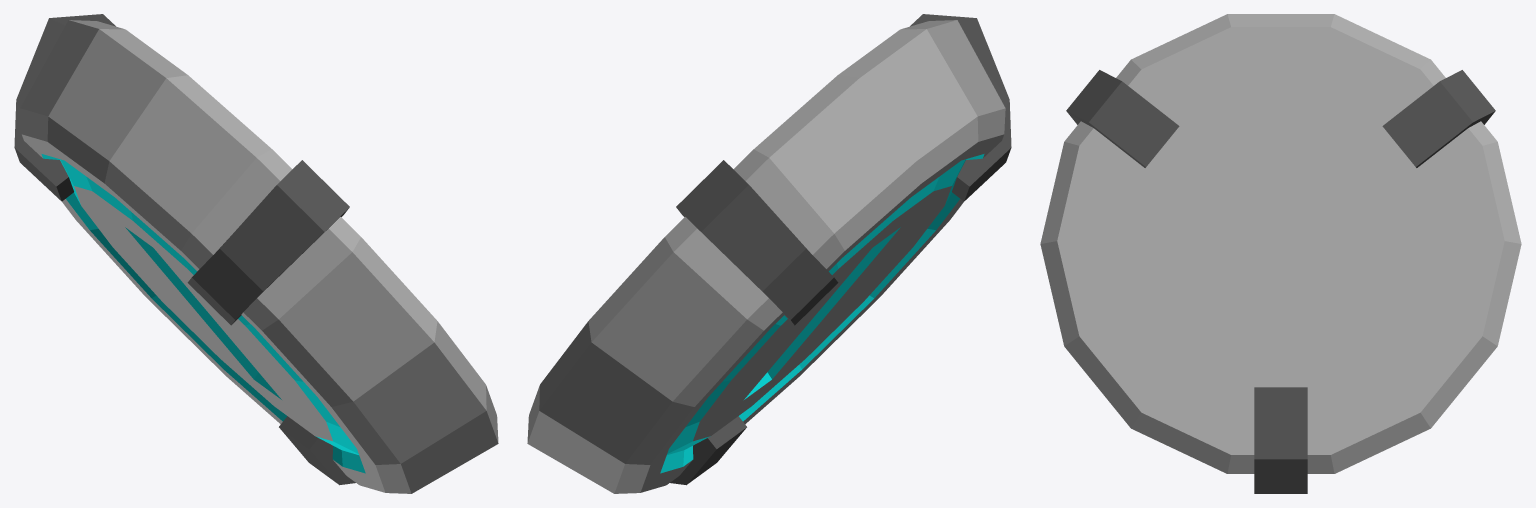
File: Proto_Vehicle_Car_Flying_Hover_Plate_Back_R_01.fbx
3 views of the same model, side by side, from view 1: azimuth 30°, elevation 25°; view 2: azimuth 150°, elevation 25°; view 3: azimuth 270°, elevation 25° (orthographic). The views are drawn at different scales.
Parts seen in each view (by area): view 1: Proto_Vehicle_Car_Flying_Hover_Plate_Back_R_01; view 2: Proto_Vehicle_Car_Flying_Hover_Plate_Back_R_01; view 3: Proto_Vehicle_Car_Flying_Hover_Plate_Back_R_01.
Boxes of the visible parts, <box> form: Proto_Vehicle_Car_Flying_Hover_Plate_Back_R_01: <box>14,14,498,493</box>; Proto_Vehicle_Car_Flying_Hover_Plate_Back_R_01: <box>527,14,1011,493</box>; Proto_Vehicle_Car_Flying_Hover_Plate_Back_R_01: <box>1040,14,1521,493</box>.
Size of the model in its own units: 0.4808 by 0.5795 by 0.672.
